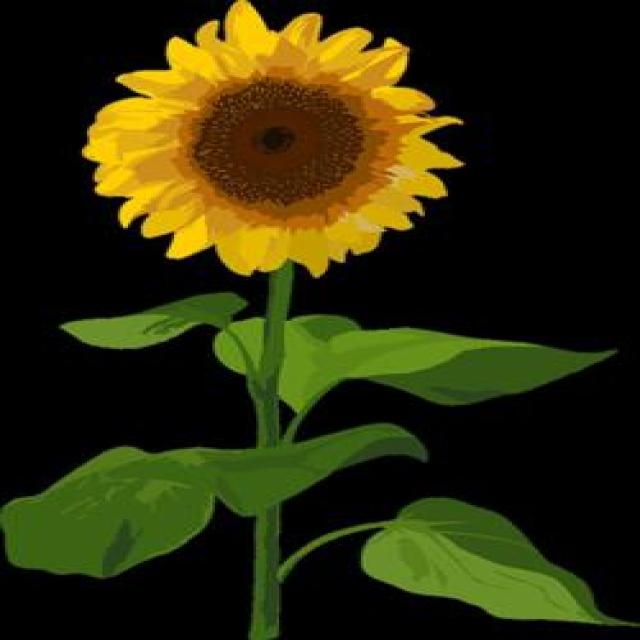sunflower: (73, 0, 475, 282)
